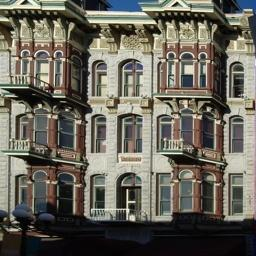building: (0, 0, 256, 223)
